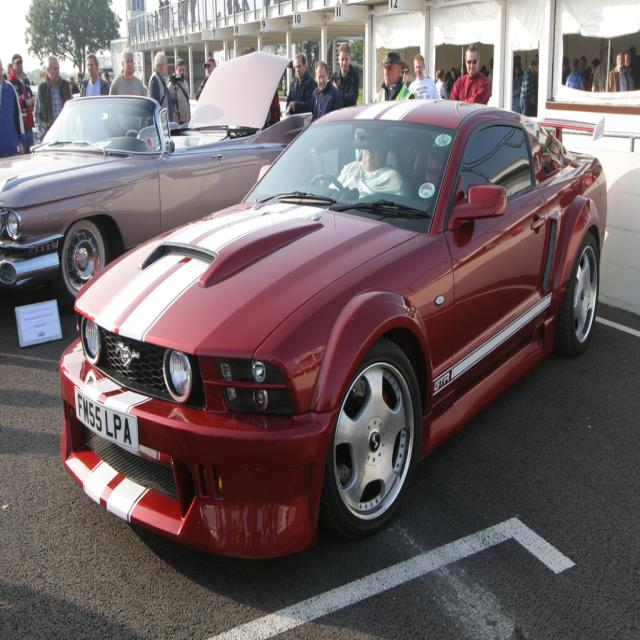car: (60, 90, 588, 566)
